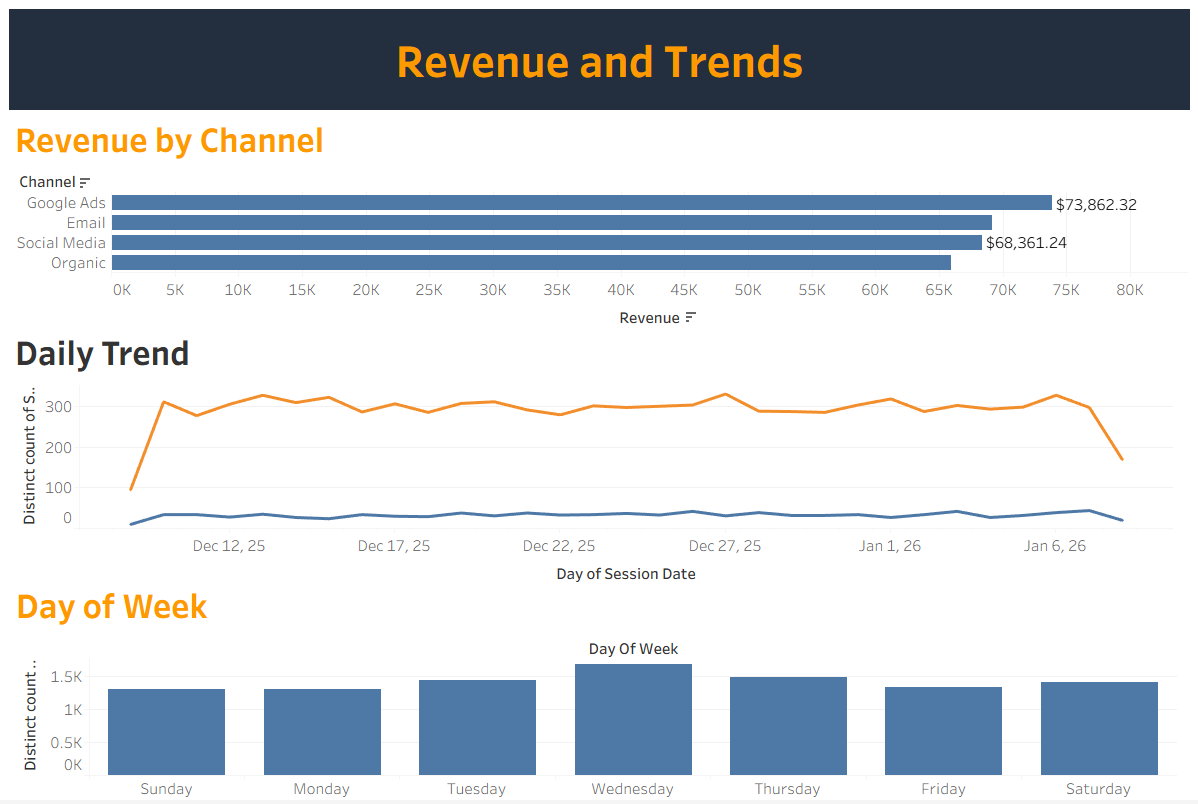

What the dashboard file says about the page in this screenshot:
{"tool":"tableau","page":{"name":"Revenue","canvas":[1200,800],"ordinal":1},"visuals":[{"type":"text","box":[10,9,1181,101]},{"type":"worksheet","title":"Revenue by Channel","mark":"Bar","rows":["channel"],"cols":["revenue"],"box":[12,112,1177,266]},{"type":"worksheet","title":"Daily Trend","mark":"Line","rows":["session_id"],"cols":["session_date"],"box":[12,325,1162,266]},{"type":"worksheet","title":"Day of Week","mark":"Bar","rows":["session_id"],"cols":["day_of_week"],"box":[13,578,1165,222]}]}

Visuals, with their boxes in screenshot pixels (x1, y1, x2, y2), scaled from the page's 1200x800 canvas onto the 1198x804 screenshot:
text: x1=10 y1=9 x2=1189 y2=111
"Revenue by Channel" worksheet (Bar marks): x1=12 y1=113 x2=1187 y2=380
"Daily Trend" worksheet (Line marks): x1=12 y1=327 x2=1172 y2=594
"Day of Week" worksheet (Bar marks): x1=13 y1=581 x2=1176 y2=803
